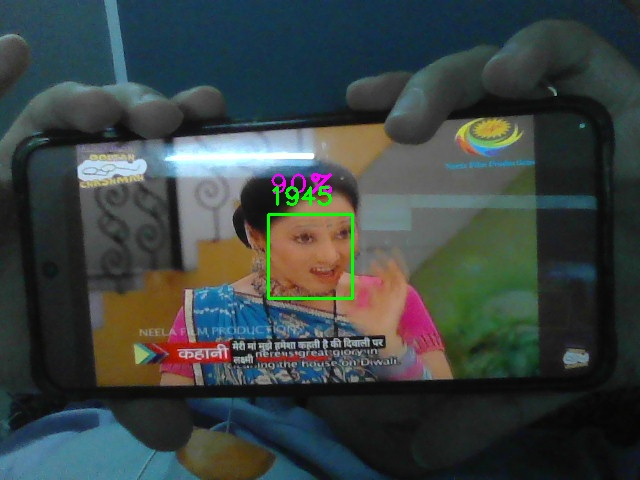fake: (268, 214, 353, 299)
